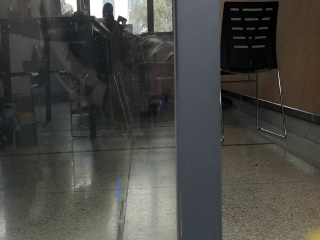room: (2, 3, 319, 240)
